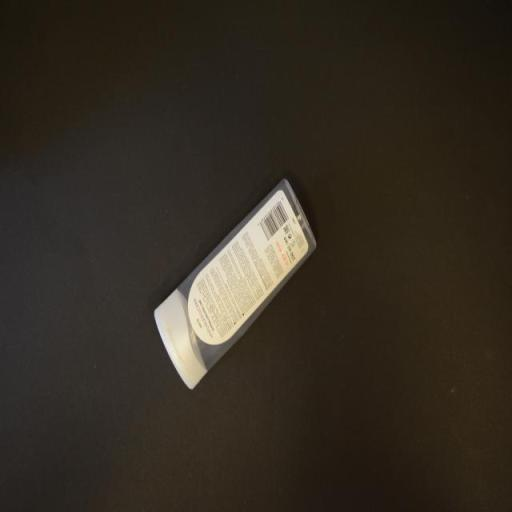plastic: (150, 176, 320, 393)
